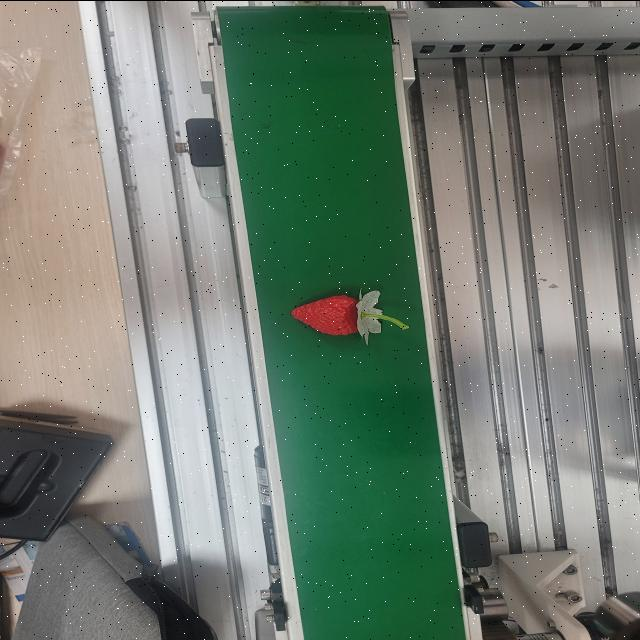Small Ripe Strawberry: (286, 286, 412, 344)
conveyor: (211, 9, 475, 640)
